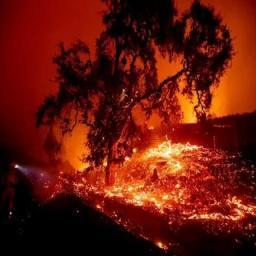Small fire: (0, 0, 194, 180), (61, 128, 256, 237)
